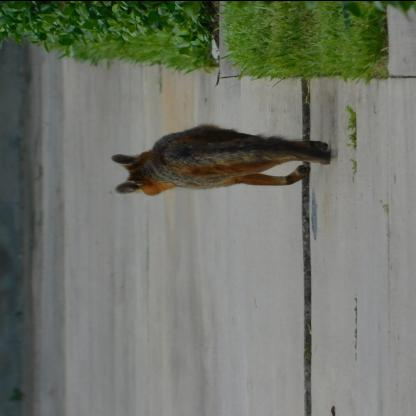zorro: (107, 122, 336, 200)
